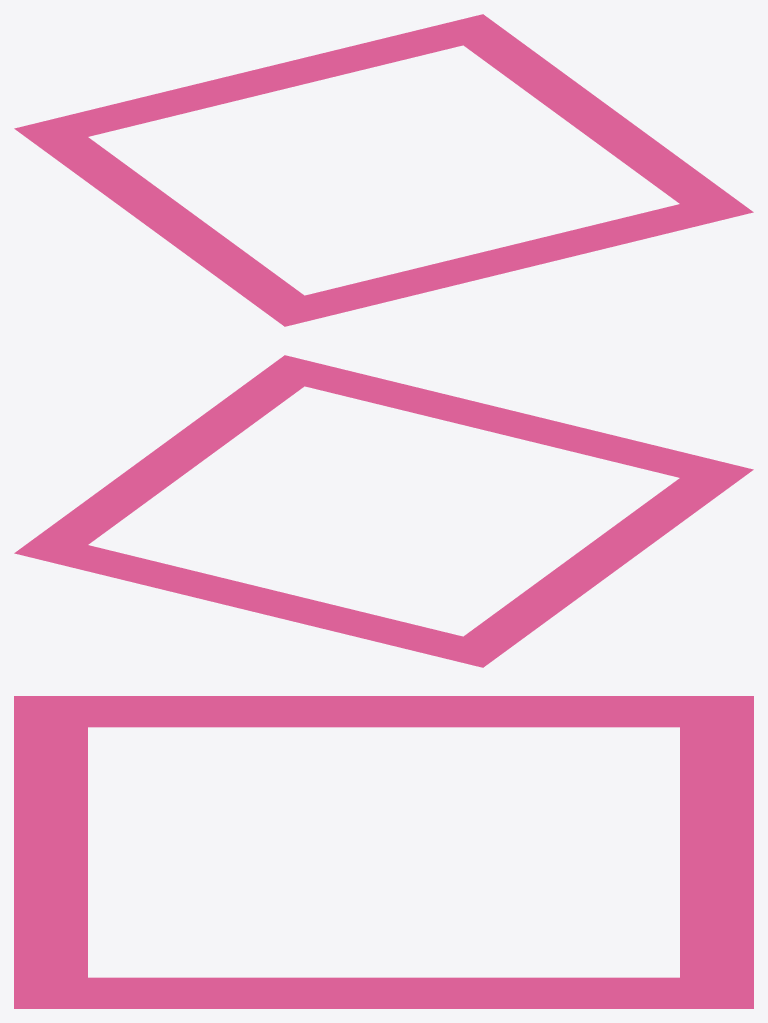
The model's file is Button_PinkBox.glb.
3 views of the same model, one above another, from view 1: azimuth 30°, elevation 25°; view 2: azimuth 150°, elevation 25°; view 3: azimuth 270°, elevation 25° (orthographic). The views are drawn at different scales.
Parts seen in each view (by area): view 1: indicator-special-cross.001; view 2: indicator-special-cross.001; view 3: indicator-special-cross.001.
Part boxes in pixels (<box>): indicator-special-cross.001: <box>14,14,753,326</box>; indicator-special-cross.001: <box>14,355,753,667</box>; indicator-special-cross.001: <box>14,696,753,1008</box>.
Size of the model in its own units: 1 by 0 by 1.
